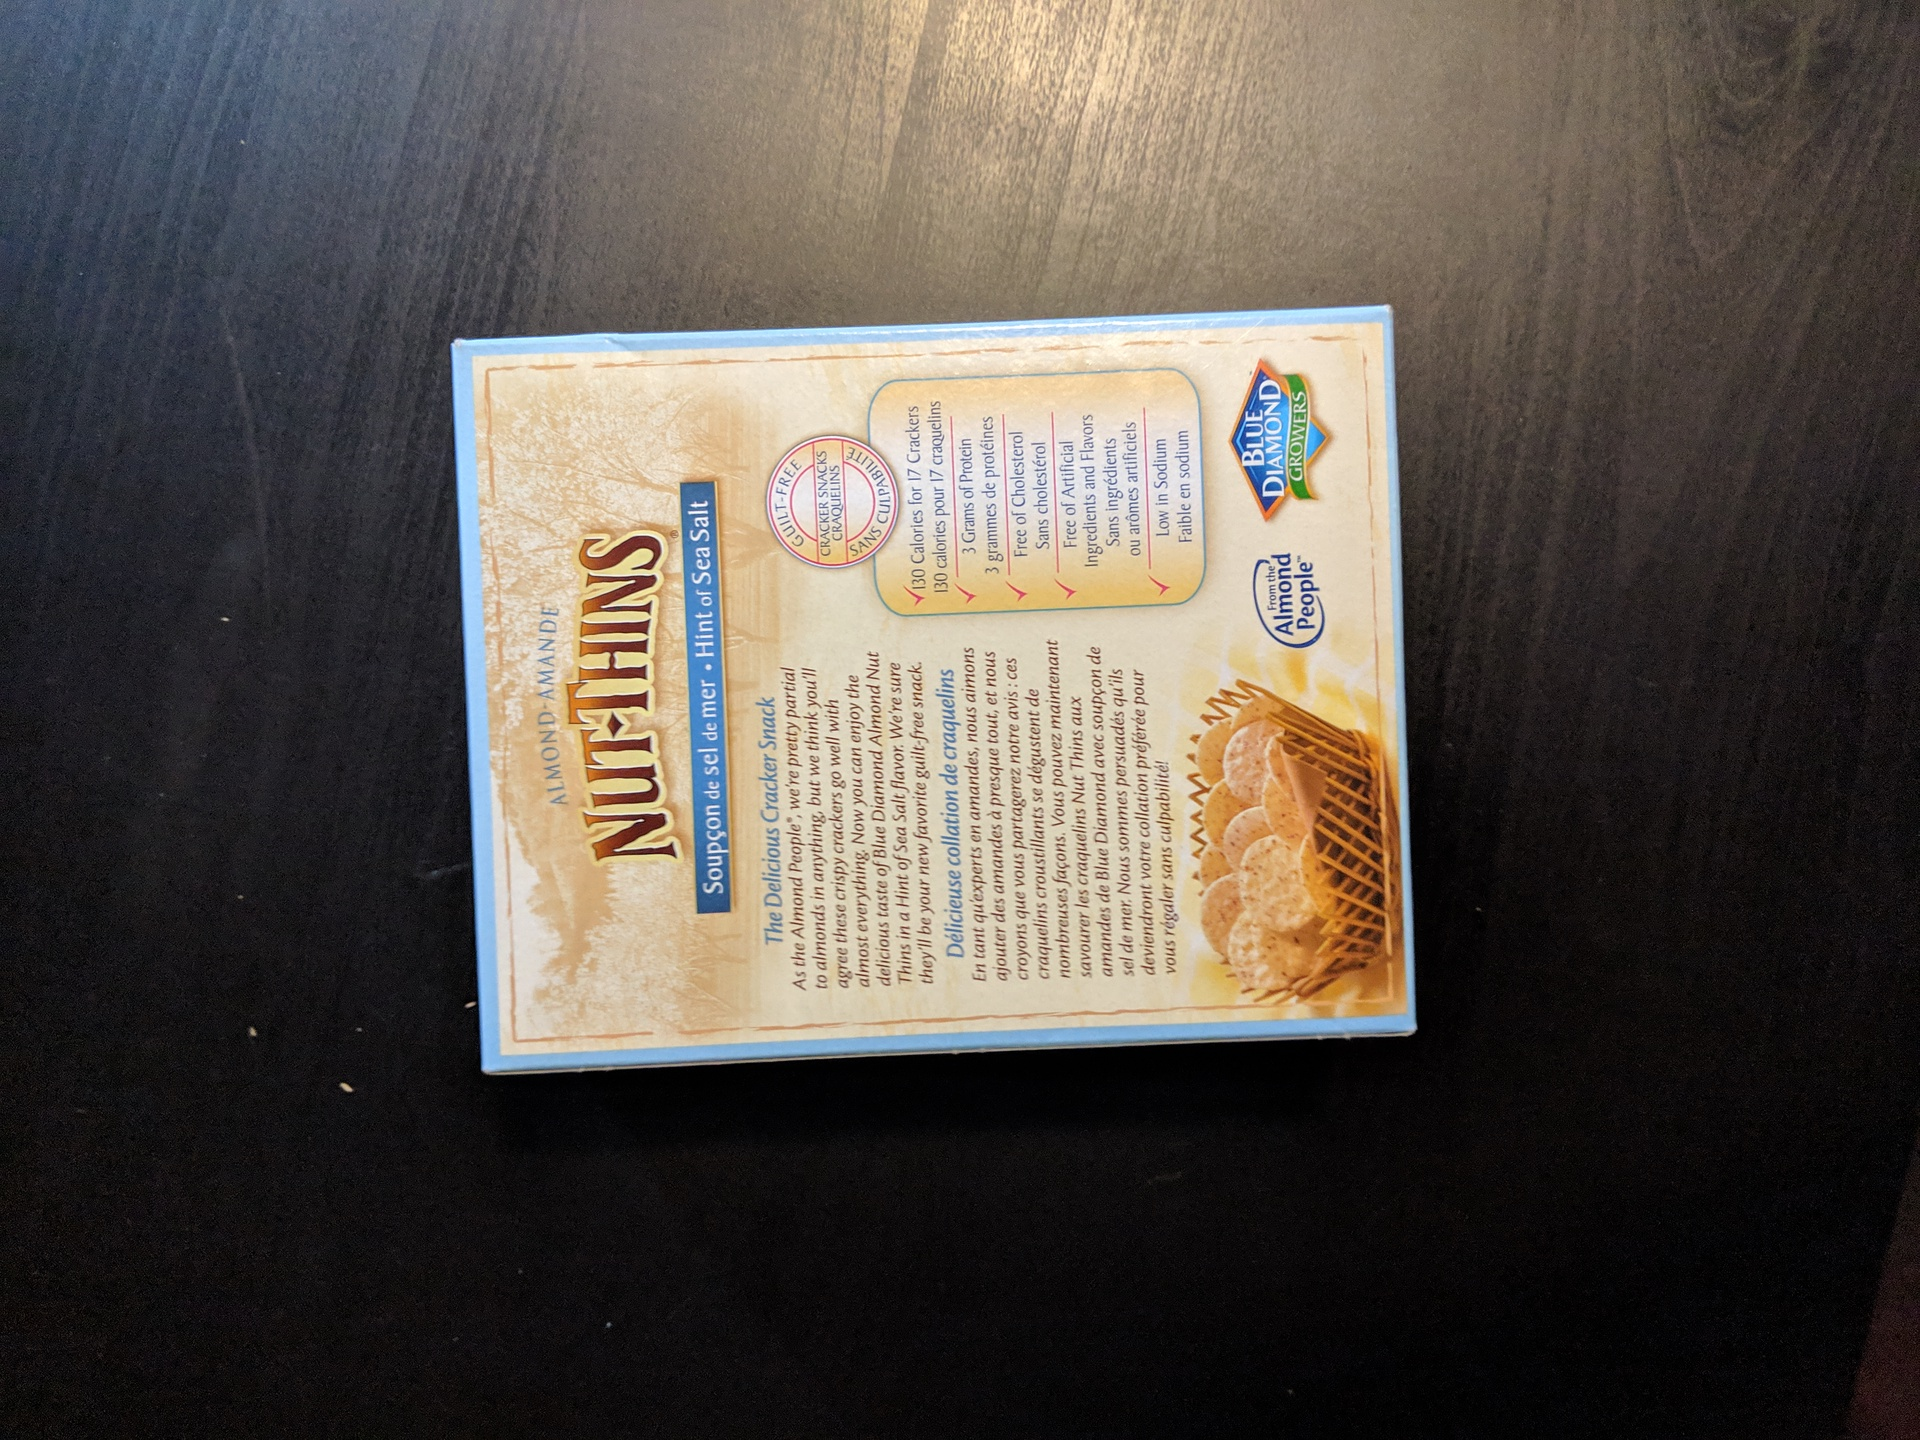blue_diamond_nut_thins_almond_seasalt: (443, 334, 1417, 1050)
